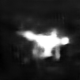plane: (14, 26, 70, 61)
